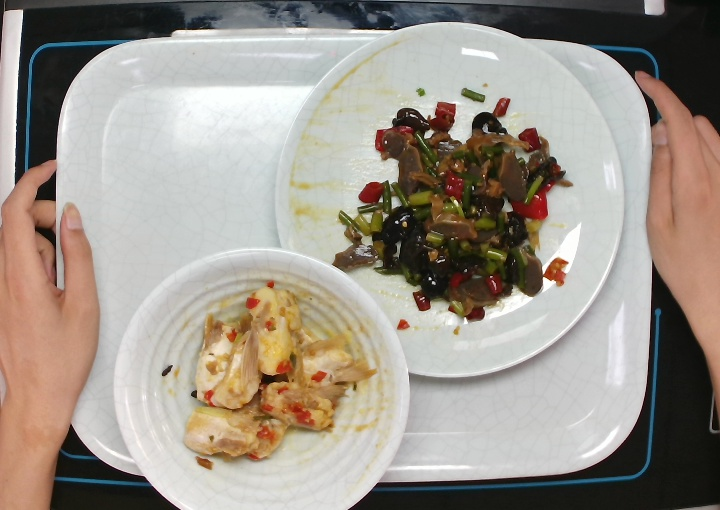JYsf-Da_Yuan_Pan: (265, 16, 630, 388)
JYsf-Xiao_Tang_Wan: (108, 245, 414, 510)
